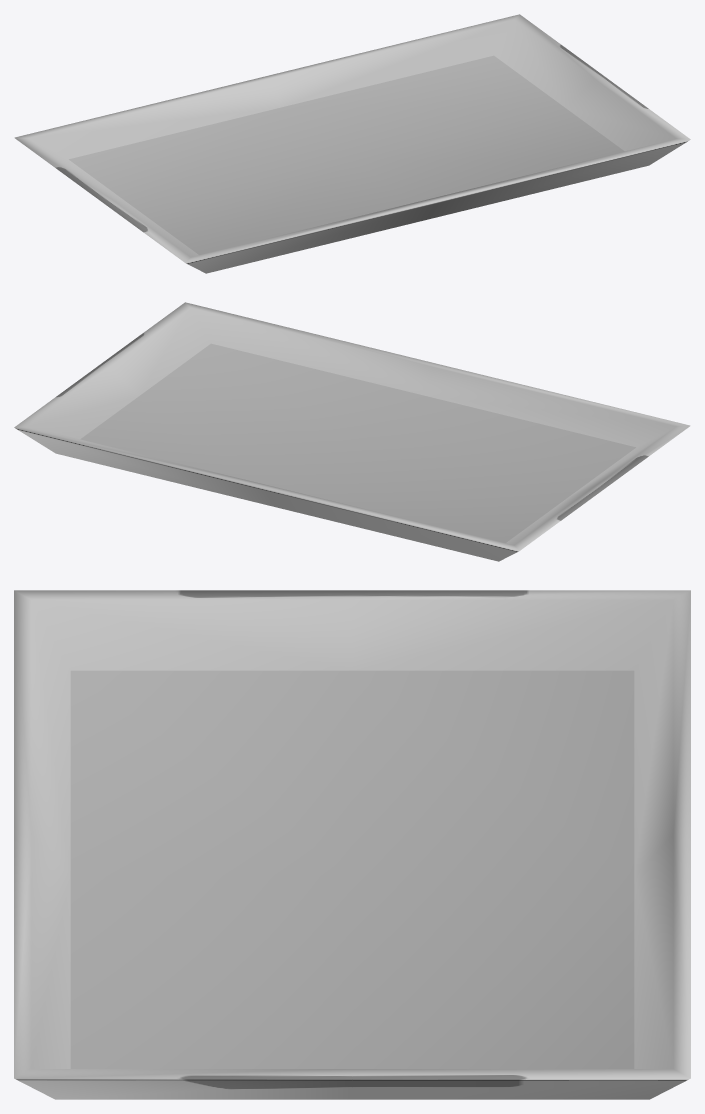
Rendered from Lab_Plate.fbx.
The picture shows the model from 3 angles, top to bottom: view 1: azimuth 30°, elevation 25°; view 2: azimuth 150°, elevation 25°; view 3: azimuth 270°, elevation 25°; orthographic projection. The views are drawn at different scales.
Visible parts, largest first — view 1: pCube7; view 2: pCube7; view 3: pCube7.
Part boxes in pixels (left/top/right/bottom): pCube7: left=14, top=14, right=690, bottom=273; pCube7: left=14, top=302, right=690, bottom=561; pCube7: left=14, top=590, right=690, bottom=1099.
Size of the model in its own units: 58.38 by 2.86 by 34.22.
1 material, 1 textured.
